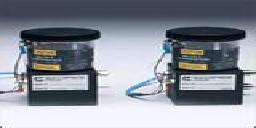Electrolytic Capacitor: (145, 14, 256, 113), (10, 16, 111, 112)
